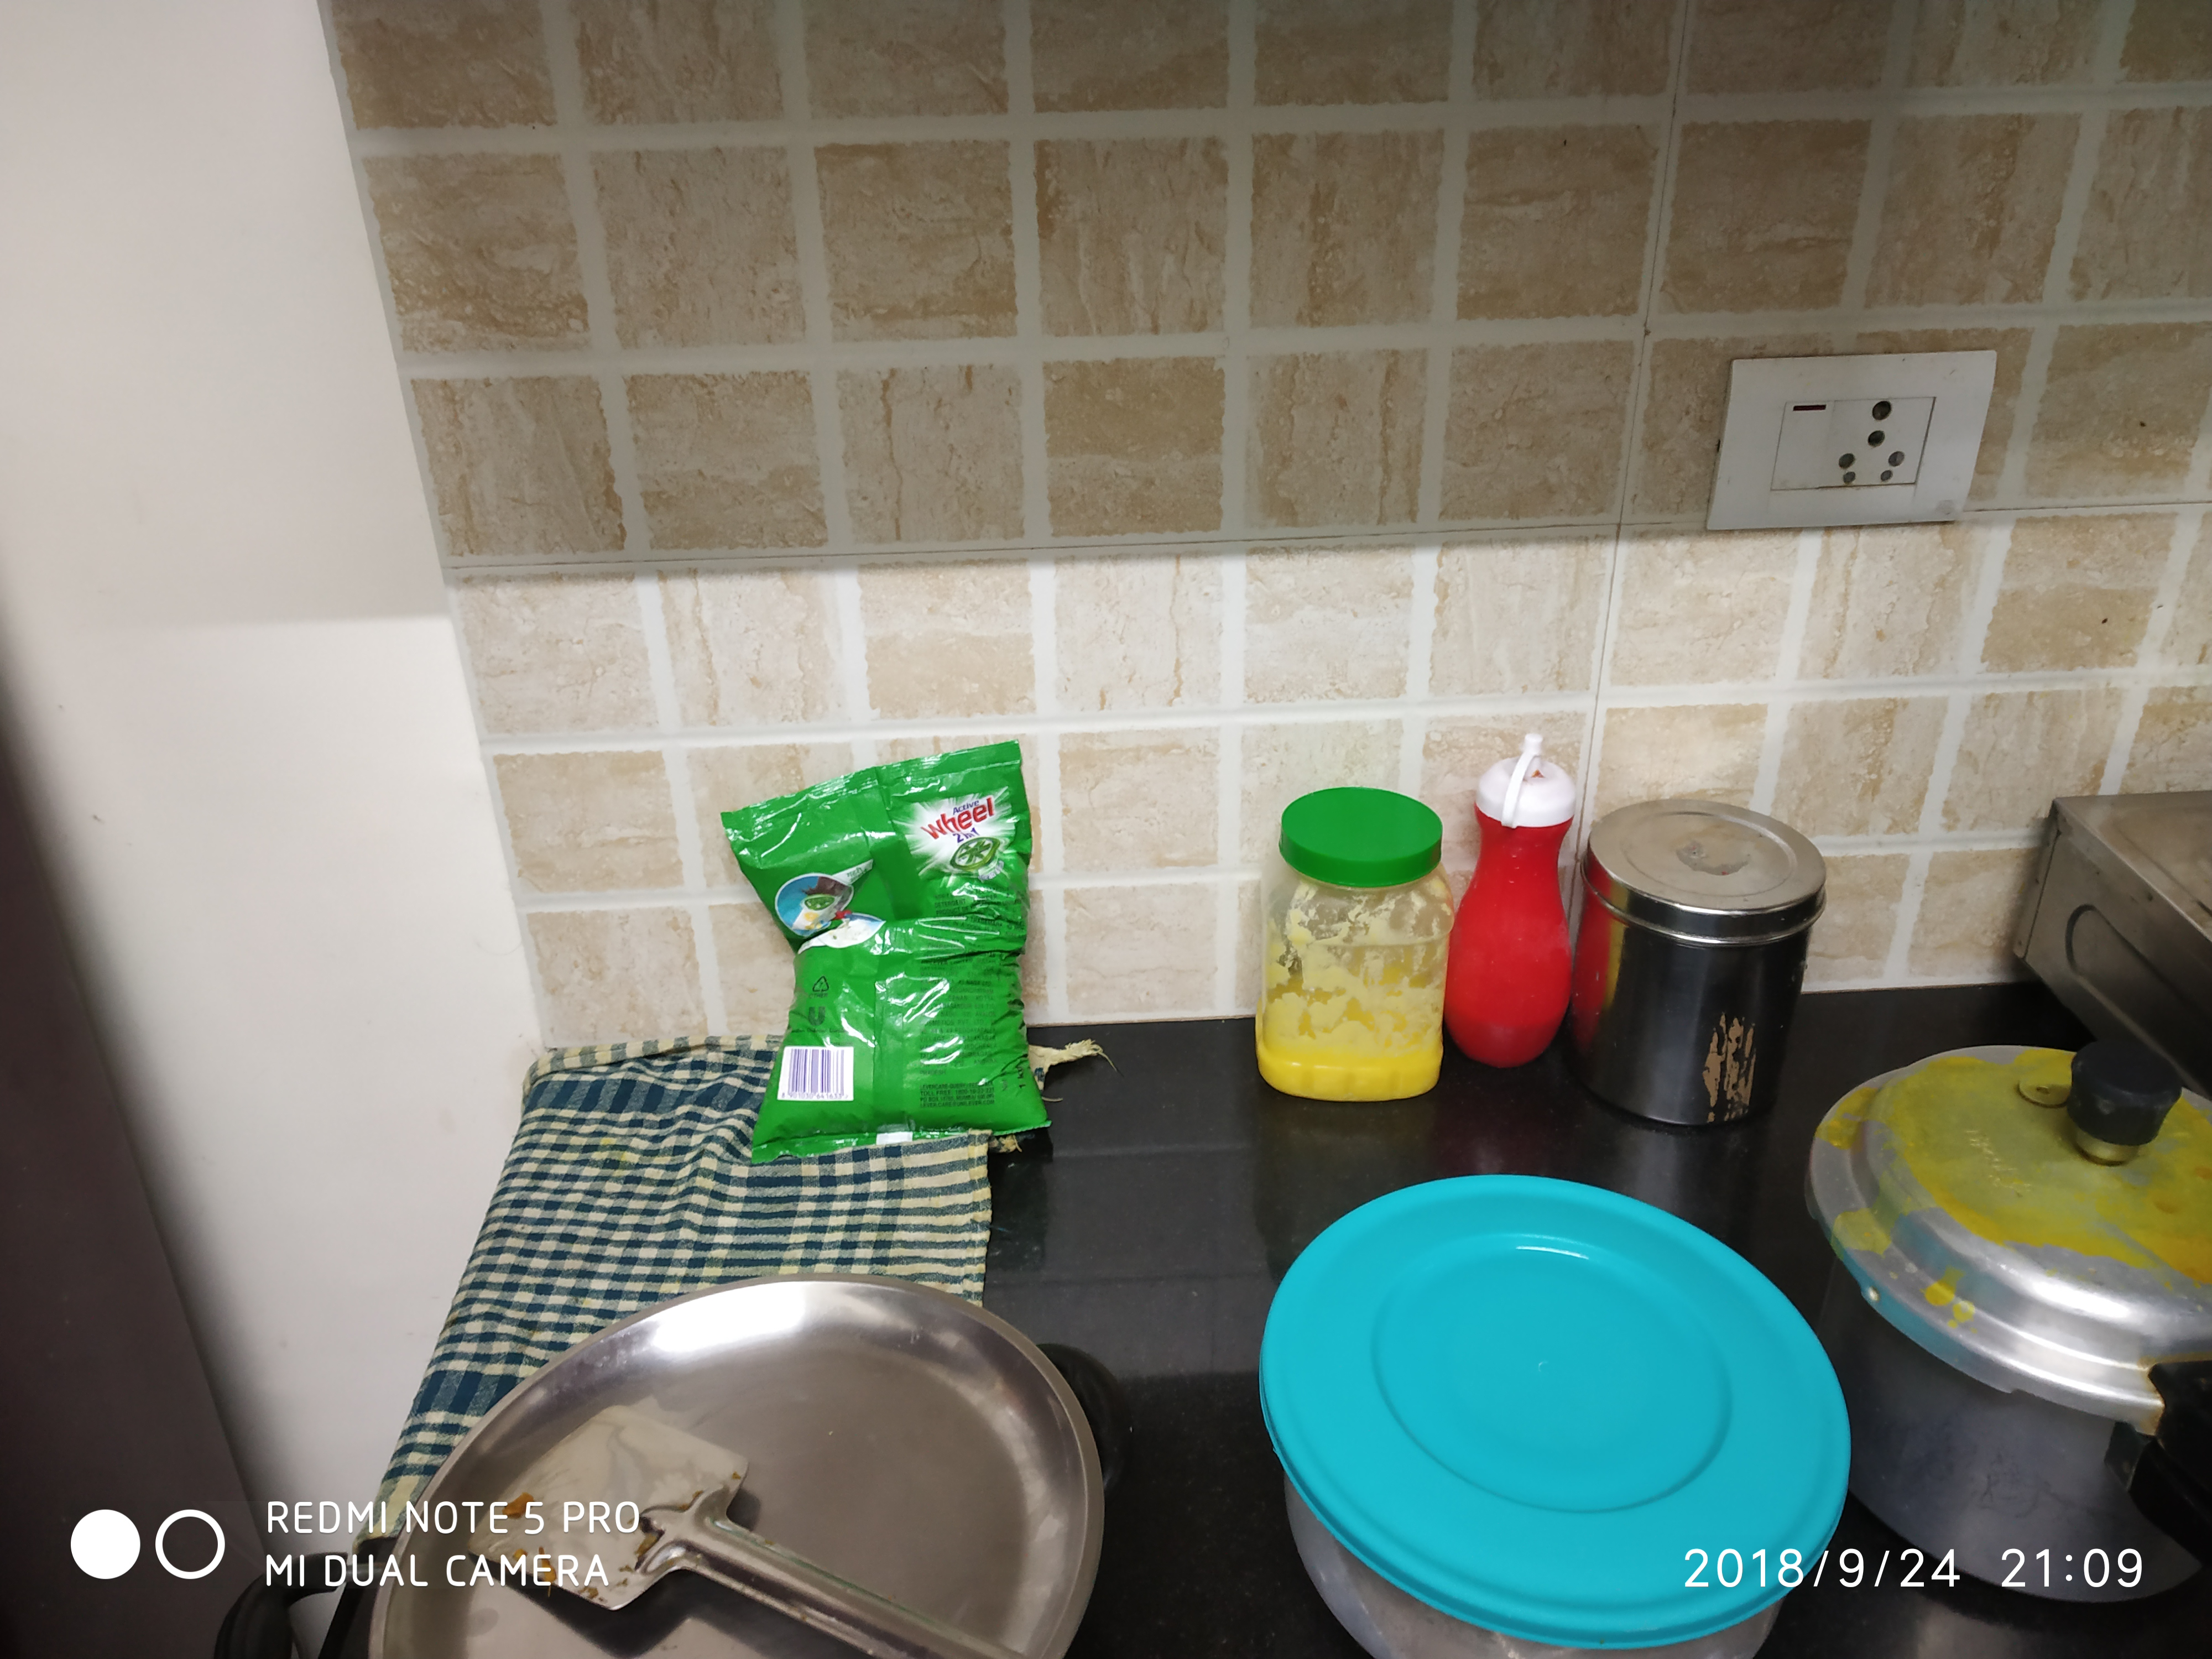detergent: (707, 741, 1077, 1161)
